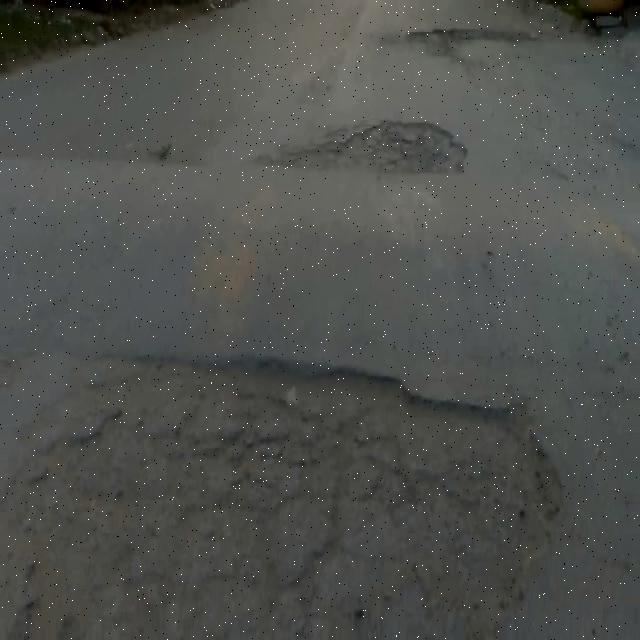pothole: (0, 360, 557, 640), (254, 119, 466, 176)
